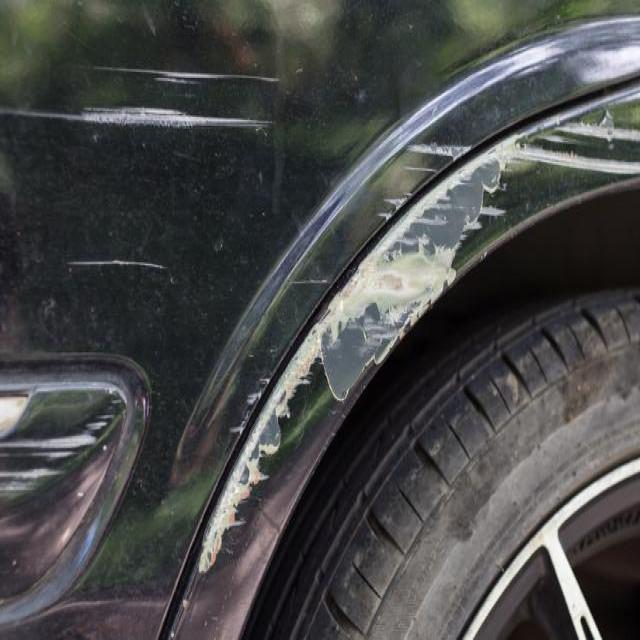Dent: (202, 428, 278, 572), (52, 0, 162, 49), (65, 105, 276, 129), (80, 63, 281, 85), (166, 554, 210, 632), (276, 333, 325, 397), (4, 424, 109, 453), (466, 150, 506, 198), (64, 256, 172, 273), (403, 140, 481, 158), (307, 300, 338, 340), (252, 502, 284, 537), (500, 364, 521, 403), (361, 324, 398, 346), (405, 210, 449, 228), (84, 409, 116, 433), (197, 538, 218, 574), (258, 426, 282, 457), (272, 390, 295, 422), (436, 243, 457, 268), (399, 163, 446, 174), (140, 4, 156, 36), (597, 108, 613, 139), (243, 452, 262, 477), (477, 202, 508, 216), (285, 276, 330, 285), (380, 195, 409, 207), (224, 514, 246, 529), (461, 217, 482, 231), (494, 558, 505, 576), (246, 390, 259, 403), (213, 234, 223, 250), (376, 208, 392, 218), (296, 374, 311, 384), (228, 424, 244, 433), (316, 564, 325, 580), (256, 169, 263, 186), (180, 595, 188, 609), (258, 376, 269, 384), (429, 105, 437, 114), (607, 138, 614, 147), (293, 66, 301, 73), (168, 628, 175, 636)
